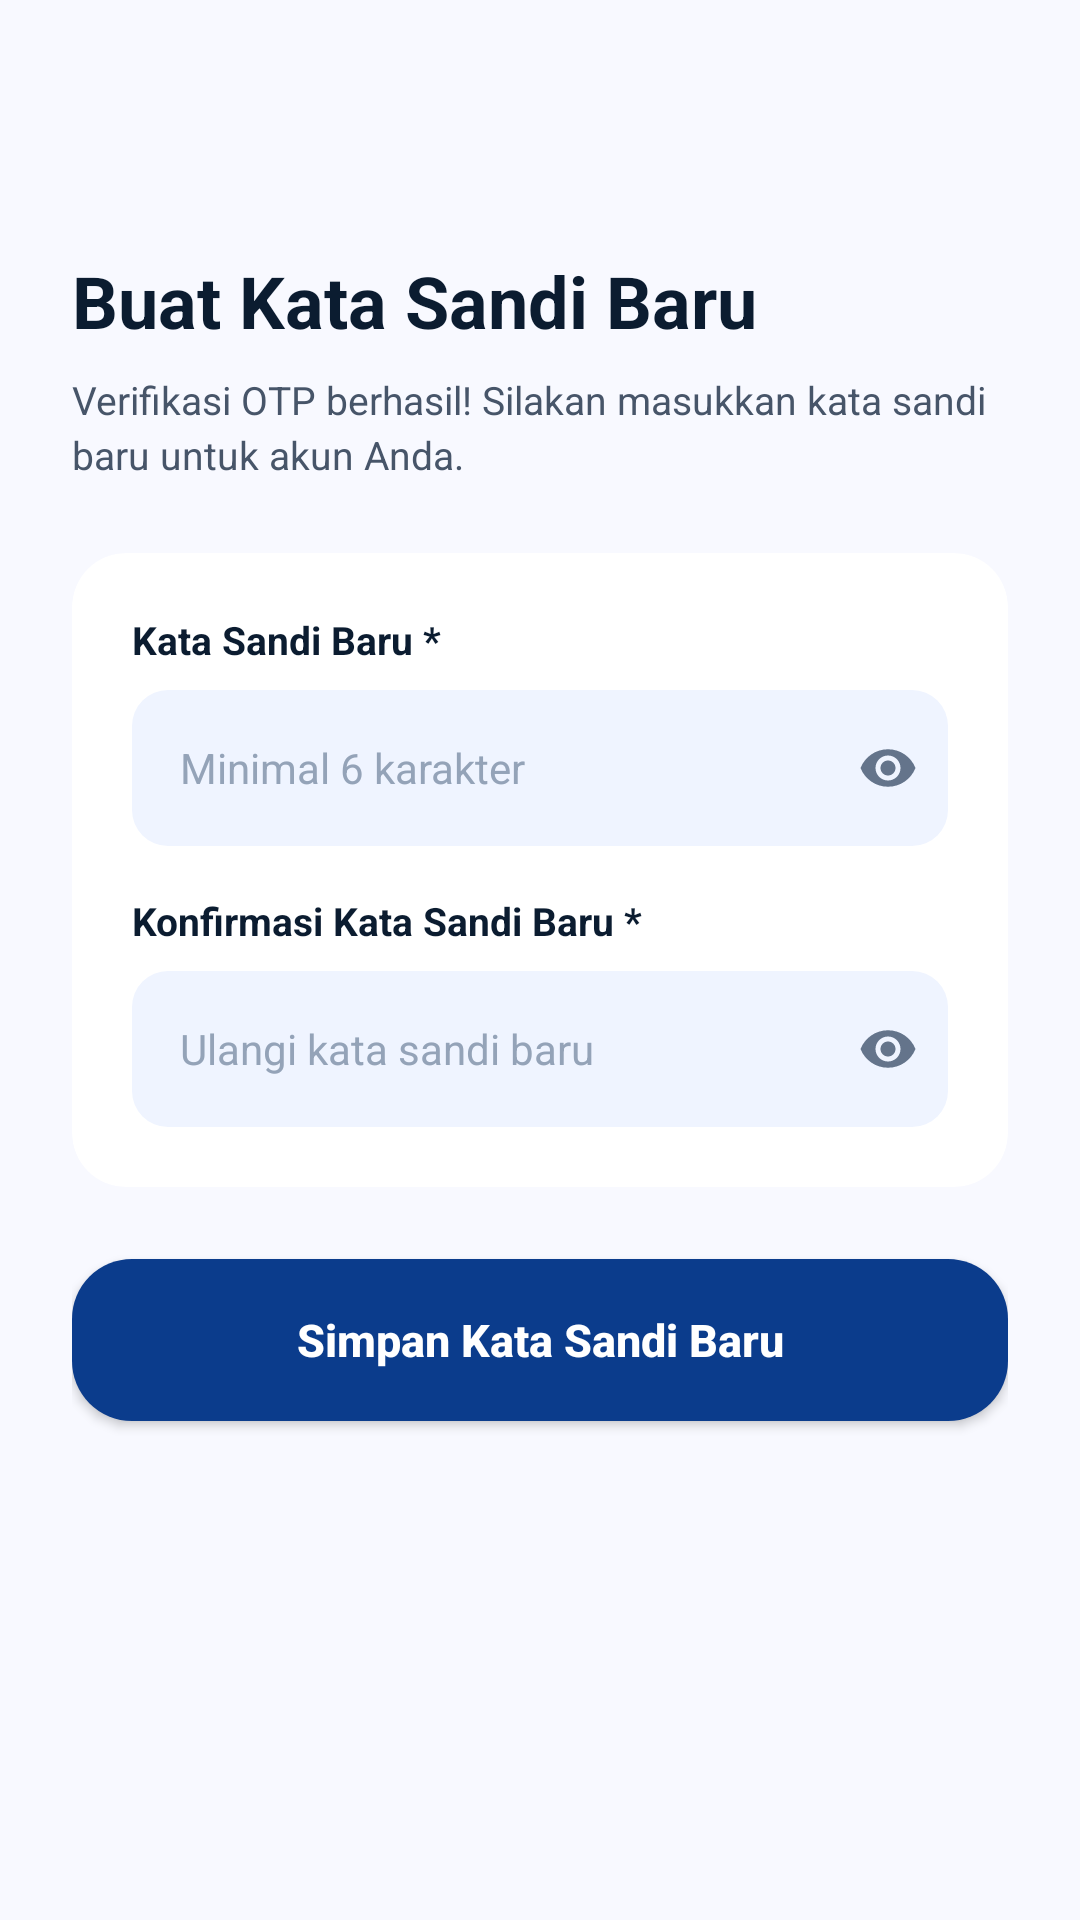

Screen size 1080*1920. Icon name, then its center in pixels as point (x, y):
mata: point (888, 768), point (888, 1049)
